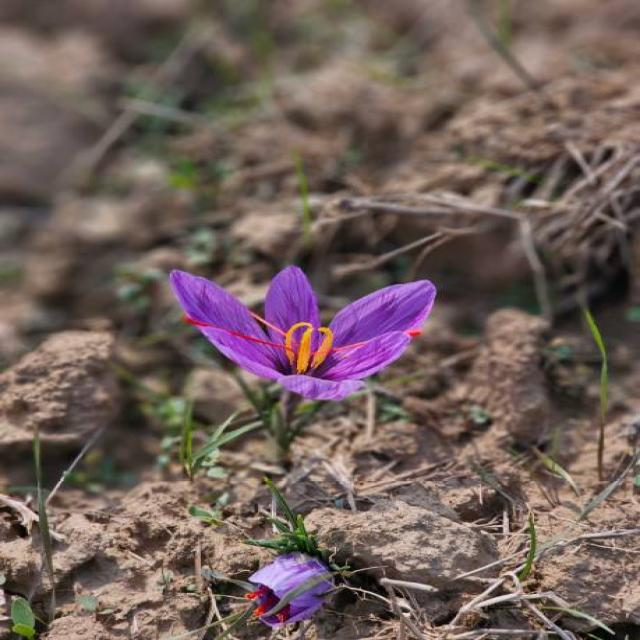saffron open: (170, 268, 437, 400)
